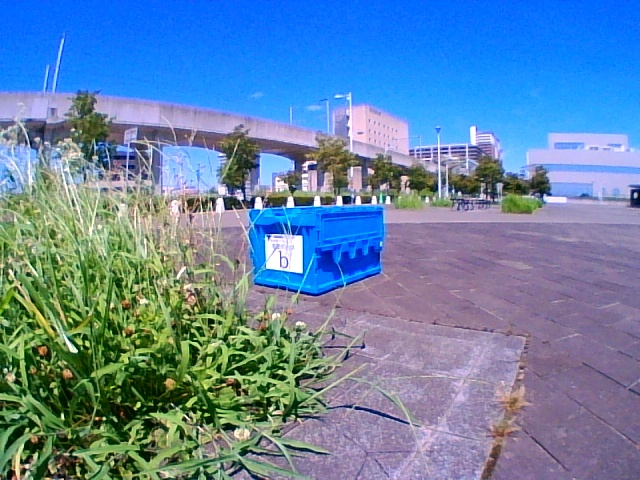blue_box: (253, 211, 362, 281)
tag_b: (266, 235, 302, 270)
